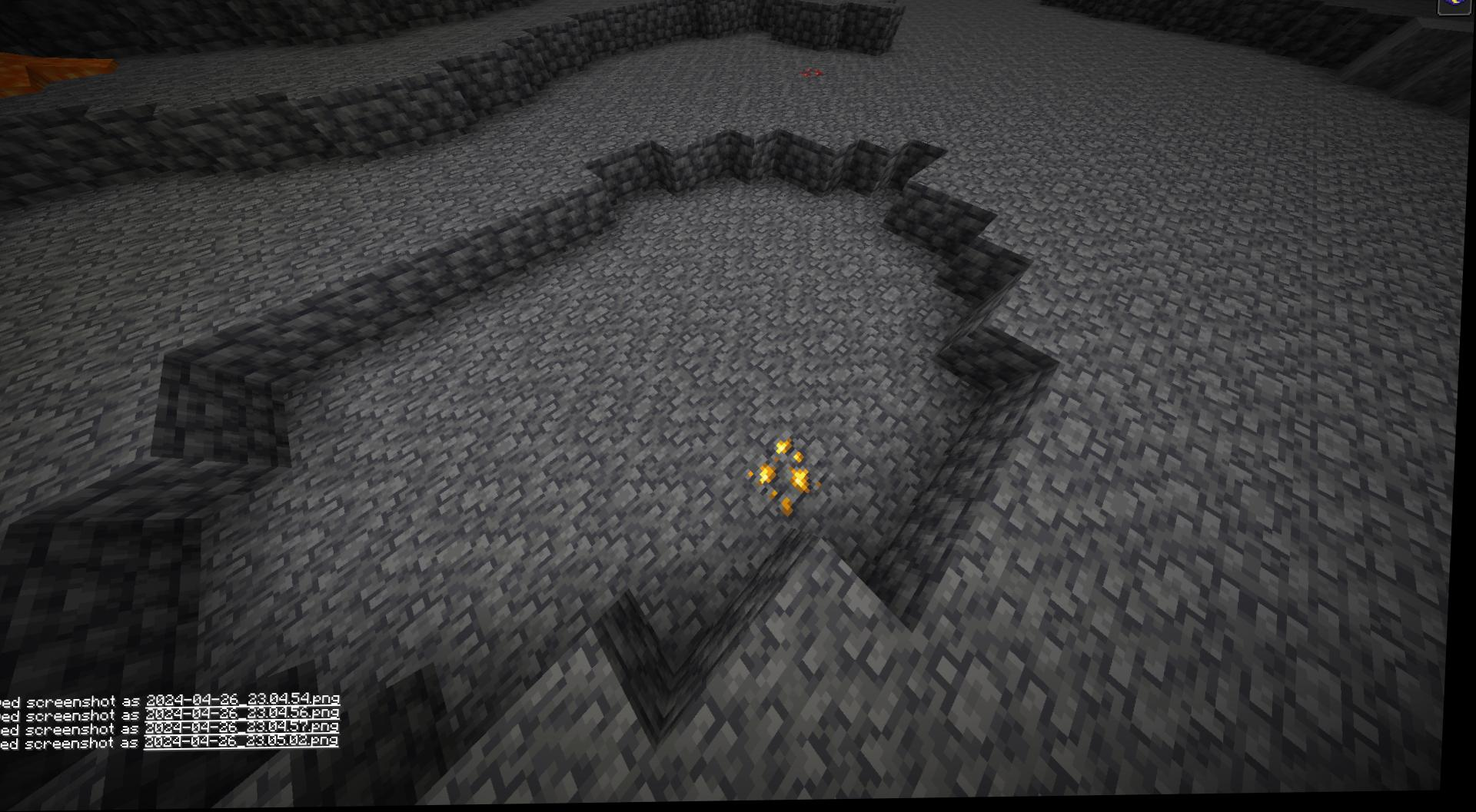gold ore: (747, 440, 835, 517)
redstone ore: (796, 69, 832, 84)
